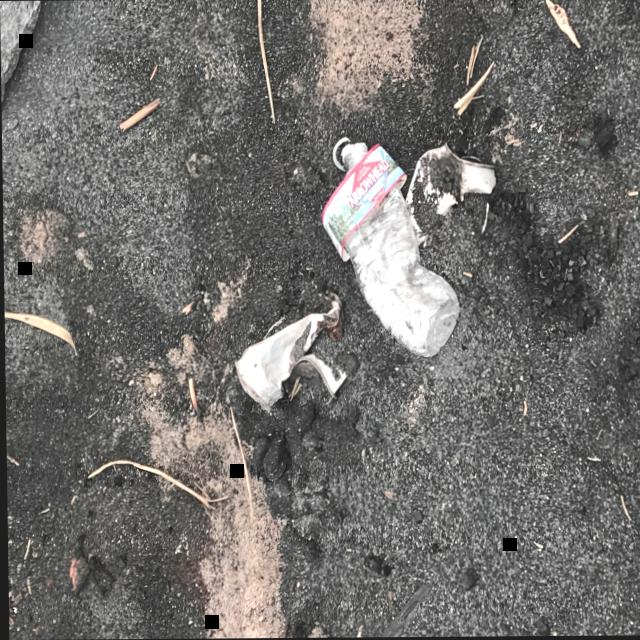Clear plastic bottle: (321, 142, 458, 357)
Drink can: (234, 290, 347, 411), (404, 143, 496, 246)
Other plastic bottle: (333, 137, 349, 173)
